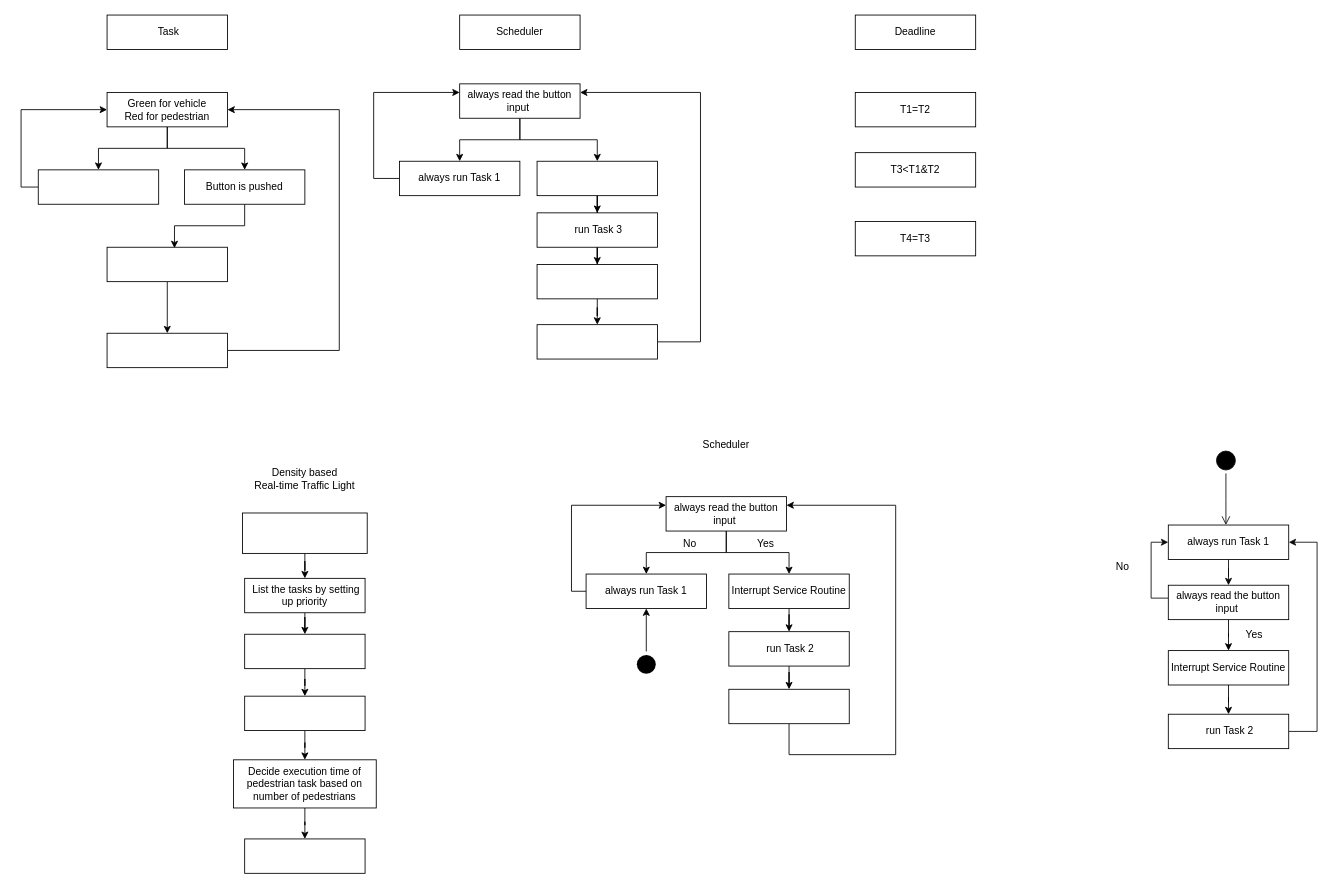
Image size: 1339x888. Some labels were removed from this diagram. The centre of each missing label's shape, as x and y in pixels:
"after 10s, suspend Task 1 & Task 2" belongs at point (596, 178).
"Analyse result of scheduling" belongs at point (304, 855).
"Button is not pushed" belongs at point (98, 186).
"continue run Task 1" belongs at point (788, 706).
"continue run Task 1 & Task 2" belongs at point (596, 341).
"Create vehicle and pedestrian traffic light tasks" belongs at point (304, 532).
"Interrupt to change the priority of task" belongs at point (304, 713).
"Red for vehicle Green for pedestrian" belongs at point (166, 350).
"run Task 4" belongs at point (596, 281).
"Schedule the tasks based on priority" belongs at point (304, 651).
"Yellow for vehicle" belongs at point (166, 264).
